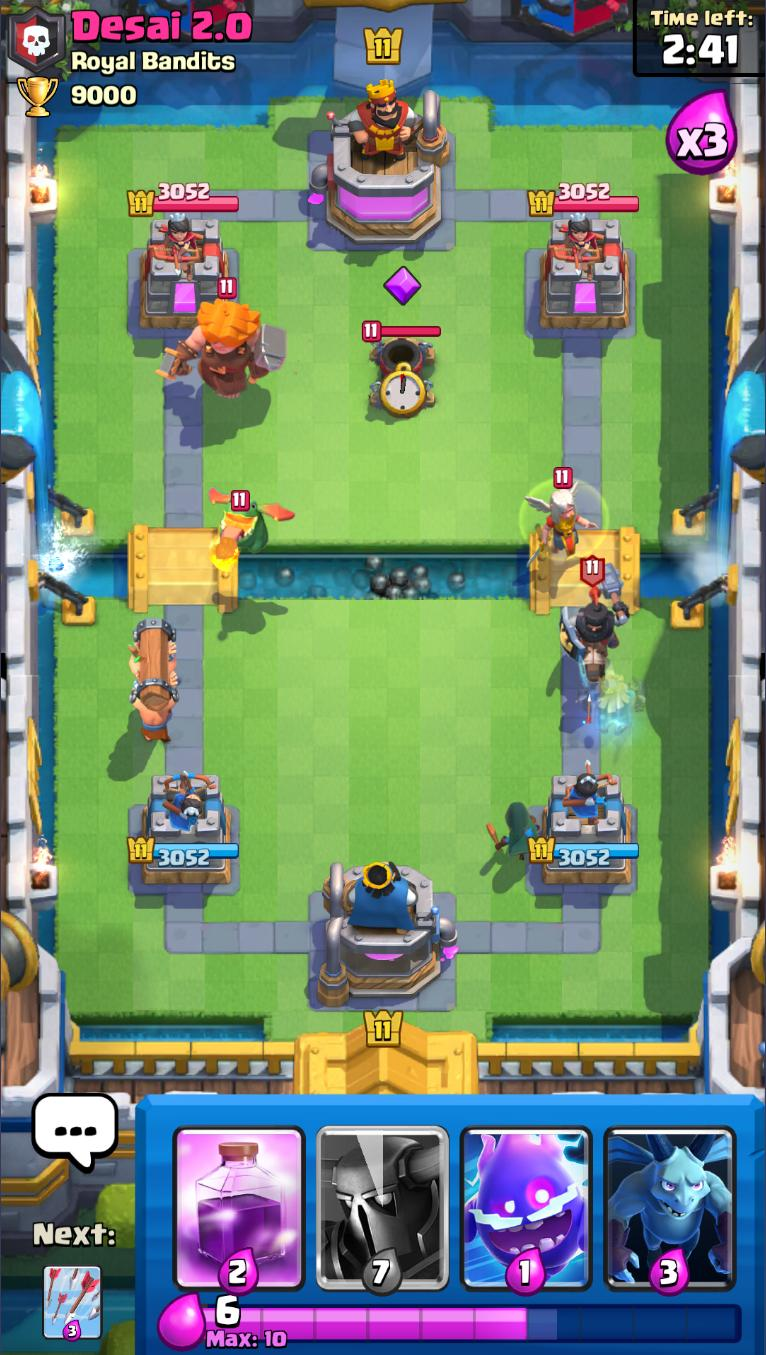ArrowNext: (41, 1262, 105, 1343)
BabyDragon: (205, 484, 296, 560)
DarkPrince: (556, 555, 631, 680)
ElectroSpiritDeck: (455, 1099, 598, 1295)
Elixir: (203, 1296, 744, 1351)
EnemyTower: (135, 216, 234, 331), (537, 216, 633, 333)
Healer: (521, 468, 611, 563)
KingTower: (307, 78, 453, 247)
MinionsDeck: (597, 1097, 742, 1298)
Mortar: (362, 319, 442, 413)
MyBandit: (489, 802, 541, 867)
MyBattleRam: (127, 618, 178, 743)
MyKingTower: (315, 859, 460, 1009)
MyPrincessTower: (526, 770, 641, 890), (128, 772, 242, 890)
MyPrincessTowerHP: (127, 836, 241, 869), (525, 835, 641, 867)
MyRoyaleGhost: (580, 655, 646, 748)
PekkaDeck: (312, 1101, 453, 1296)
RageDeck: (166, 1096, 312, 1295)
RuneGiant: (157, 276, 287, 396)
TowerPrincessHP: (528, 182, 640, 219), (128, 182, 241, 218)
